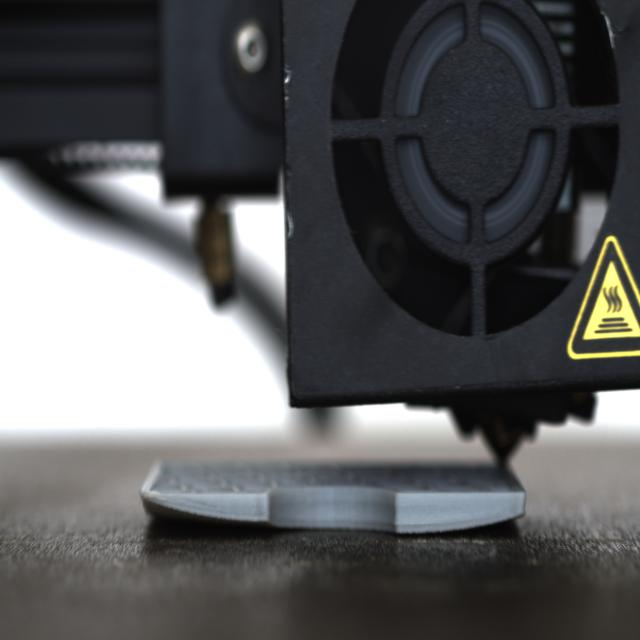Warping: (136, 494, 260, 531), (455, 505, 529, 536)
